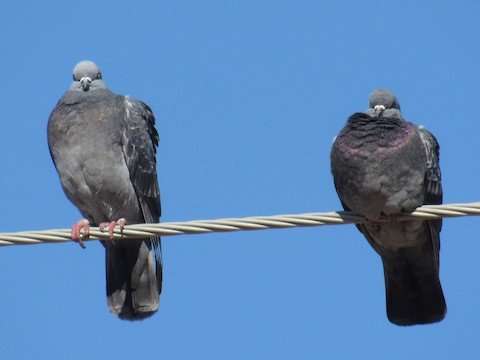pigeon: (37, 55, 175, 323), (319, 83, 456, 332)
